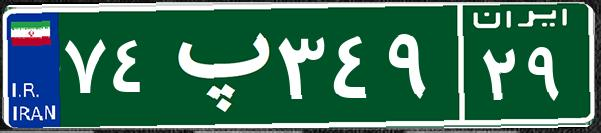2: (475, 38, 525, 113)
3: (273, 28, 330, 110)
4: (330, 28, 385, 110), (110, 28, 158, 105)
7: (57, 26, 110, 107)
9: (385, 28, 445, 110), (525, 38, 570, 115)
پ: (158, 15, 273, 115)
